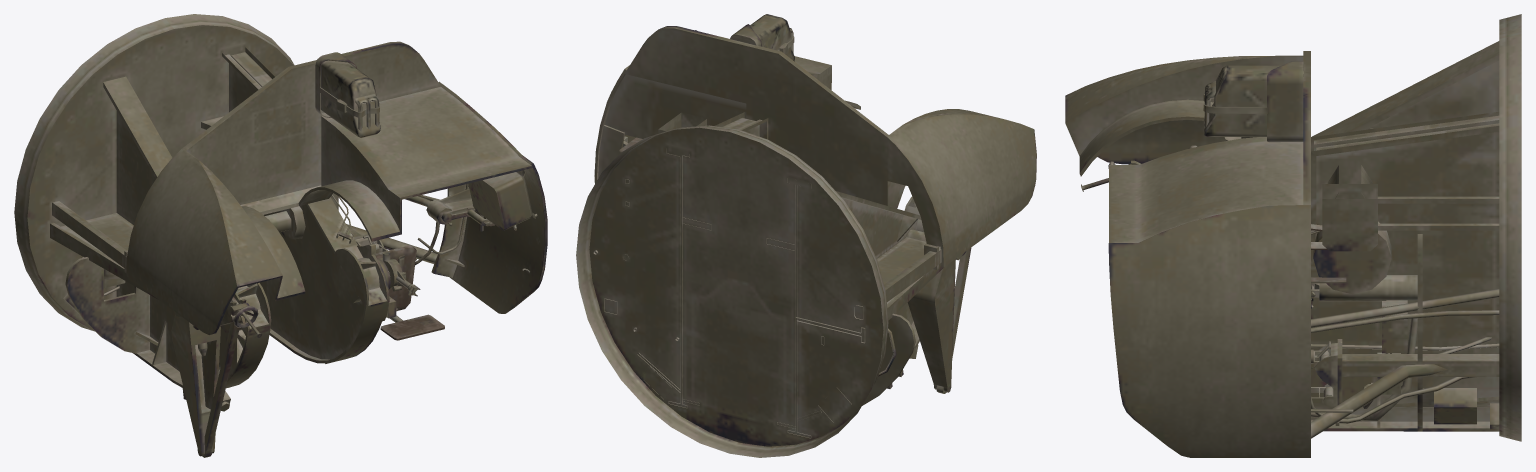
Rendered from Turret_02.glb.
3 views of the same model, side by side, from view 1: azimuth 30°, elevation 25°; view 2: azimuth 150°, elevation 25°; view 3: azimuth 270°, elevation 25° (orthographic). The views are drawn at different scales.
Visible parts, largest first — view 1: set_0_group_0; view 2: set_0_group_0; view 3: set_0_group_0.
Boxes of the visible parts, x1,y1,x2,y2 form: set_0_group_0: [14, 14, 547, 457]; set_0_group_0: [576, 14, 1036, 457]; set_0_group_0: [1065, 14, 1521, 457].
Bounding box in the file's own units: 2.16 × 1.88 × 1.88.
Materials: 1 (1 with a texture image).
